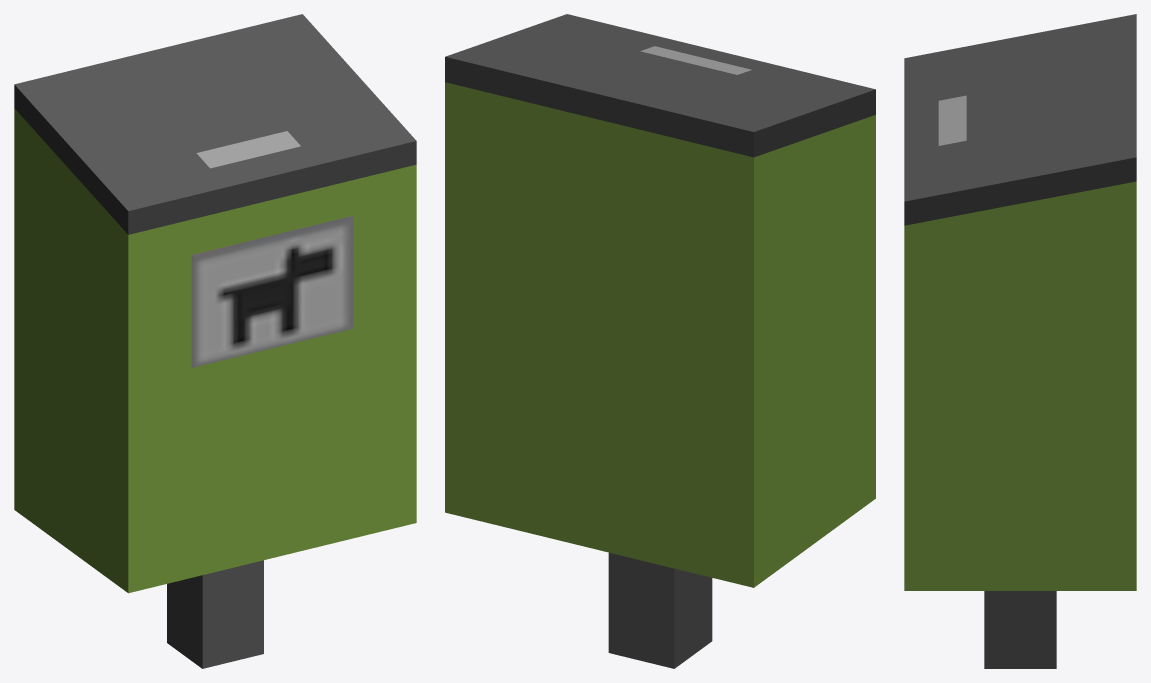
Rendered from SM_DogRubbishBin_01.fbx.
3 views of the same model, side by side, from view 1: azimuth 30°, elevation 25°; view 2: azimuth 150°, elevation 25°; view 3: azimuth 270°, elevation 25° (orthographic). The views are drawn at different scales.
Parts seen in each view (by area): view 1: SM_DogRubbishBin_01; view 2: SM_DogRubbishBin_01; view 3: SM_DogRubbishBin_01.
Part boxes in pixels (bbox=[...]): SM_DogRubbishBin_01: bbox=[14, 14, 416, 668]; SM_DogRubbishBin_01: bbox=[445, 14, 875, 668]; SM_DogRubbishBin_01: bbox=[904, 14, 1136, 668].
Bounding box in the file's own units: 0.9345 × 1.73 × 0.6399.
